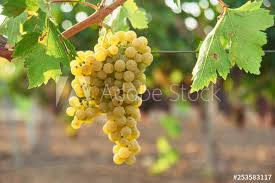grapes: (73, 39, 155, 170)
